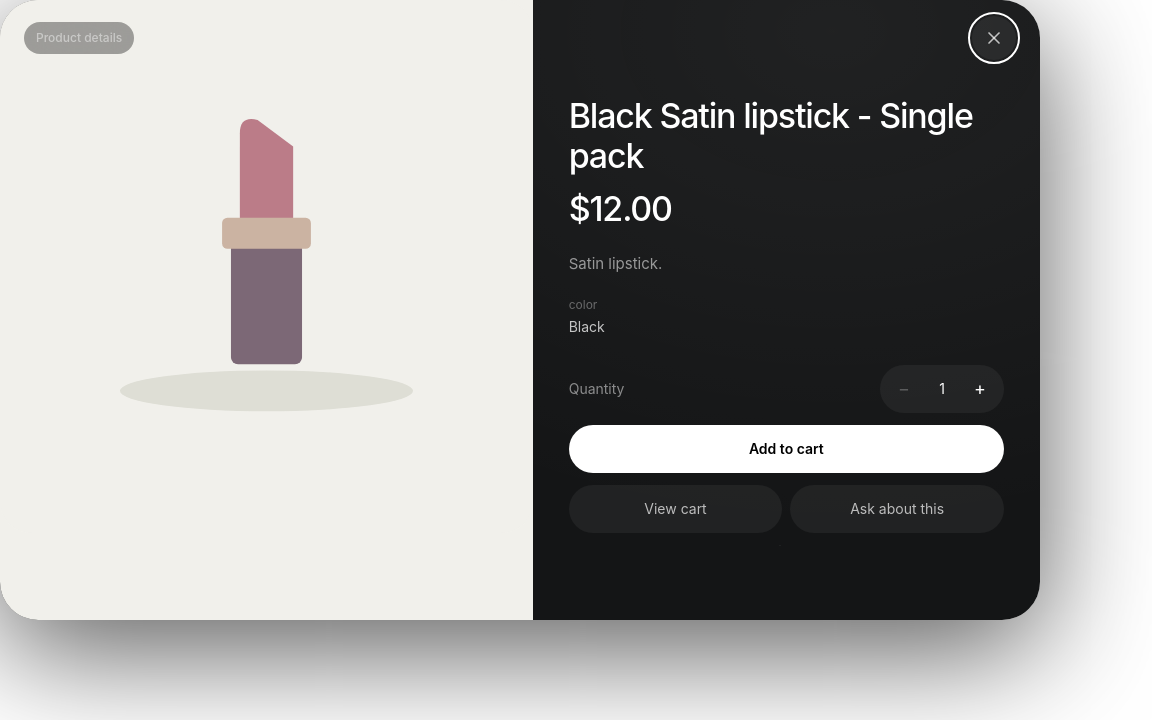
preserves uncertain state without retrying
This screenshot has width=1152, height=720.
Click the button "Add to cart" at (786, 449), box left=569, top=425, right=1004, bottom=473
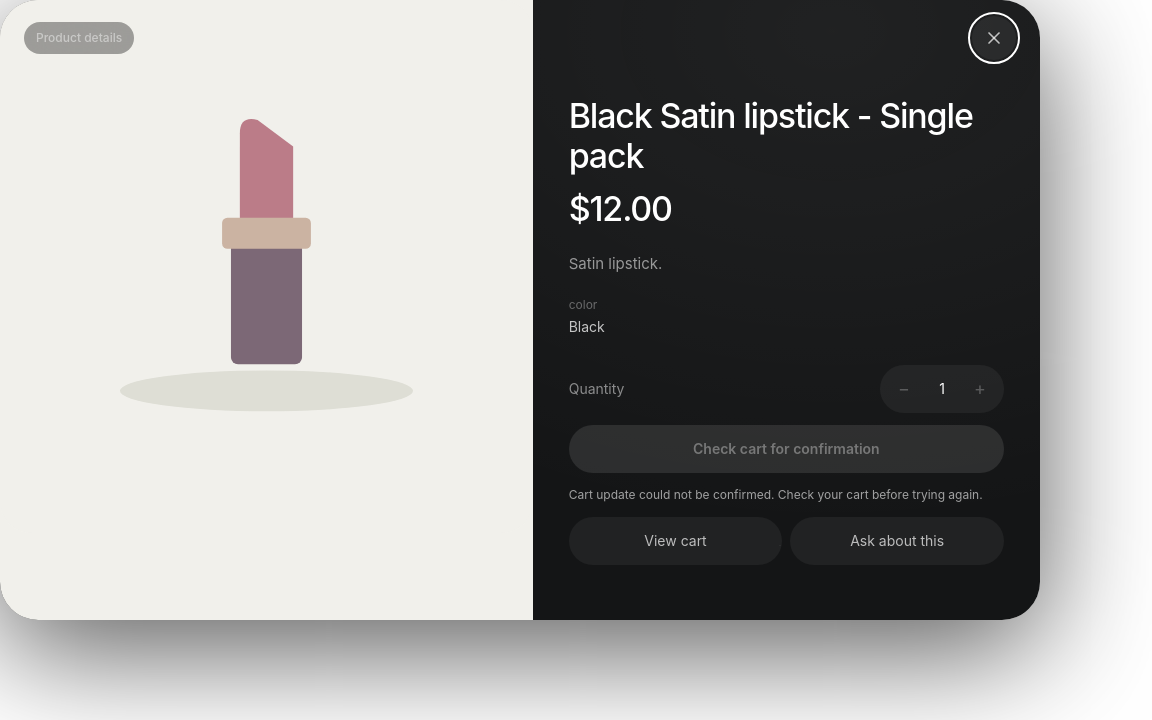
Check: the message shows "could not be confirmed", box left=569, top=487, right=983, bottom=502
